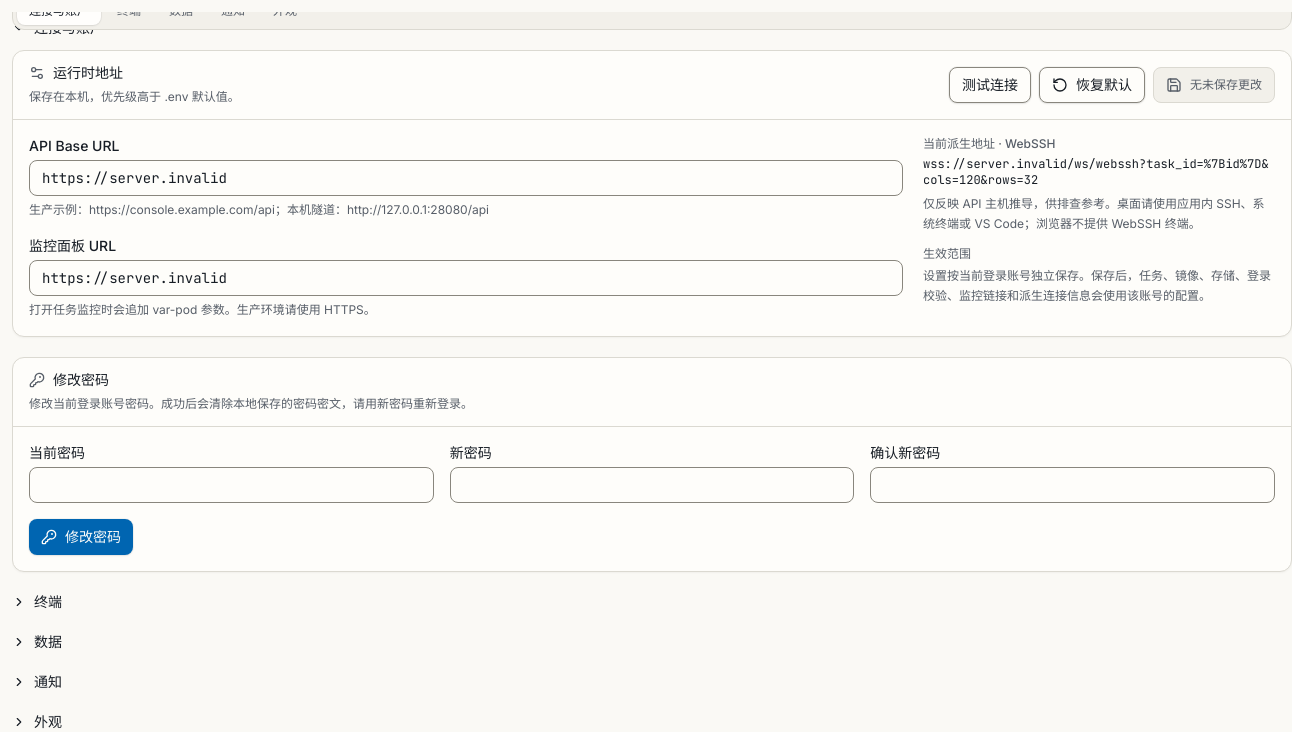
Test case: SettingsPage › uses an explicit permission request before sending a test system notification
(page scrolled)
Click the 2nd button "通知".
click(37, 682)  # box [12,672,62,692]
(page scrolled)
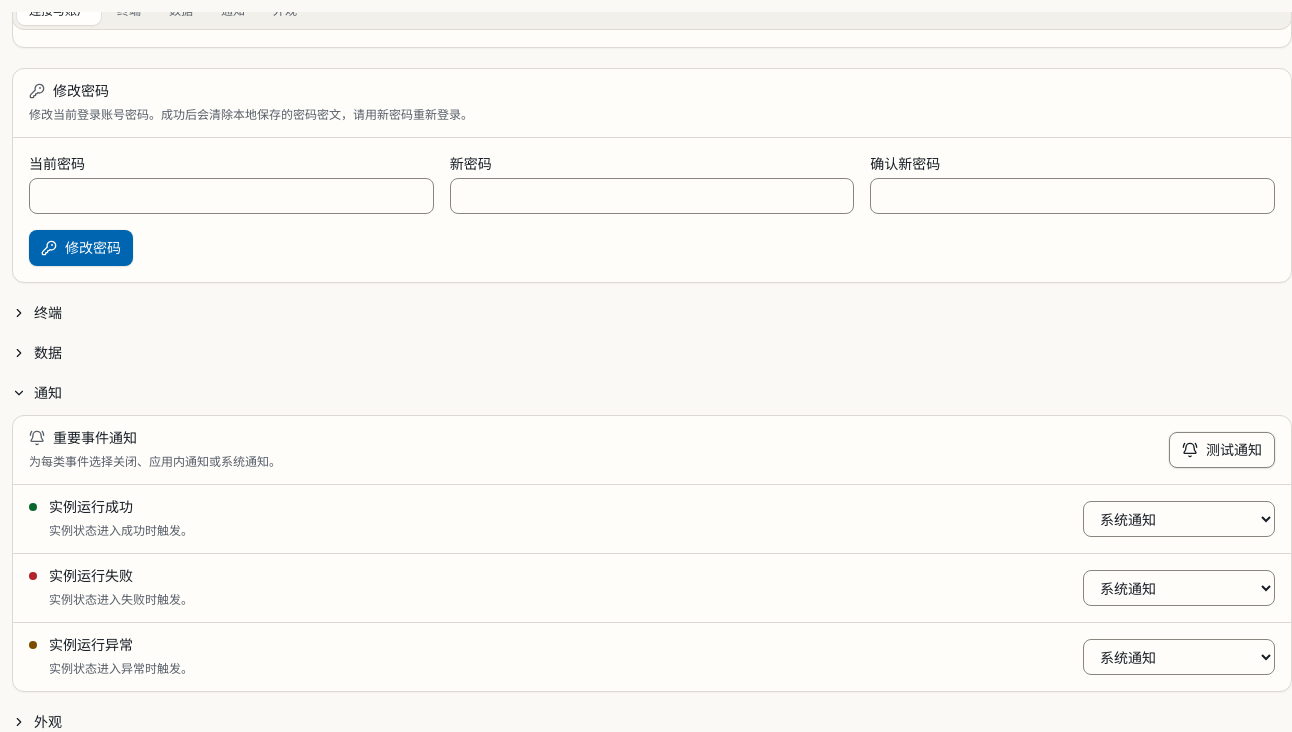
Click the button "测试通知".
click(1222, 450)  # box [1169,432,1275,468]
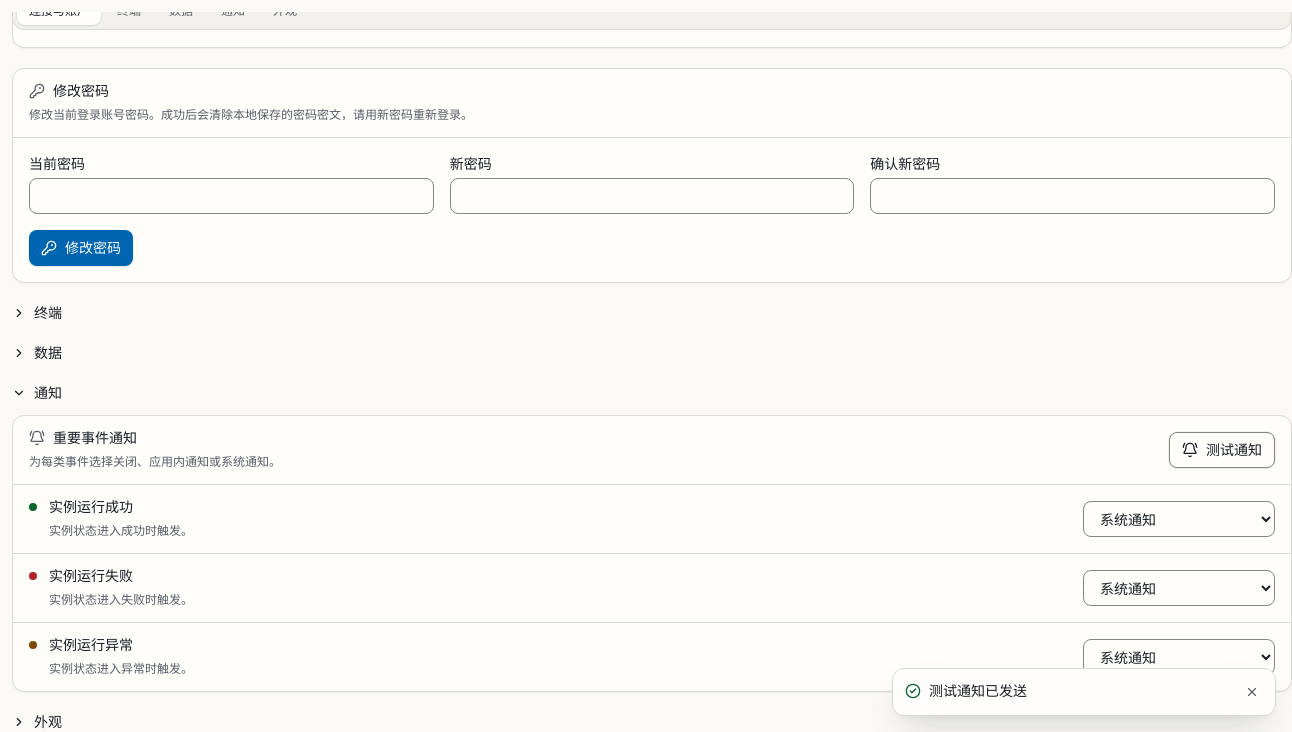
Expected: the text "测试通知已发送" is shown, [929,682,1027,699]
